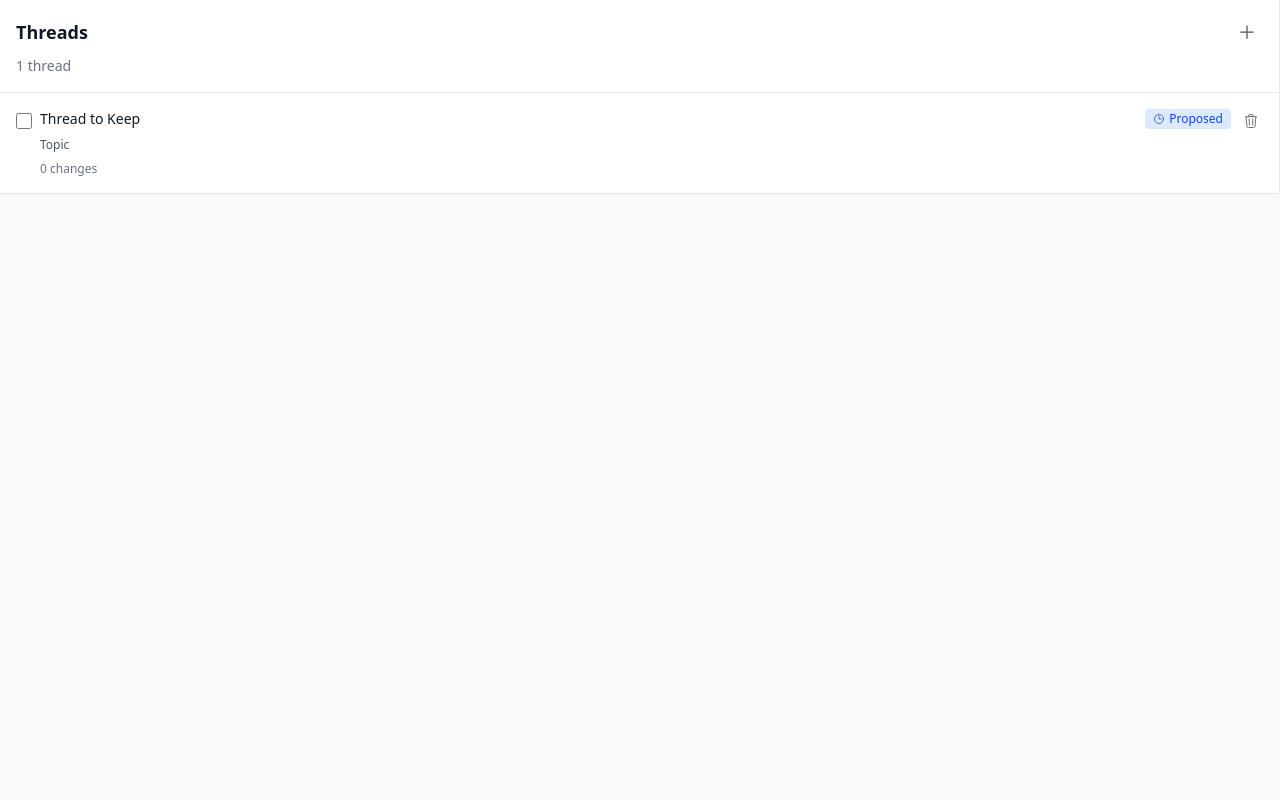
it: ThreadListPanel › closes delete dialog when Cancel is clicked
The image size is (1280, 800).
Click the button titled "Delete thread" at (1251, 121), box 1239,109 -> 1263,133
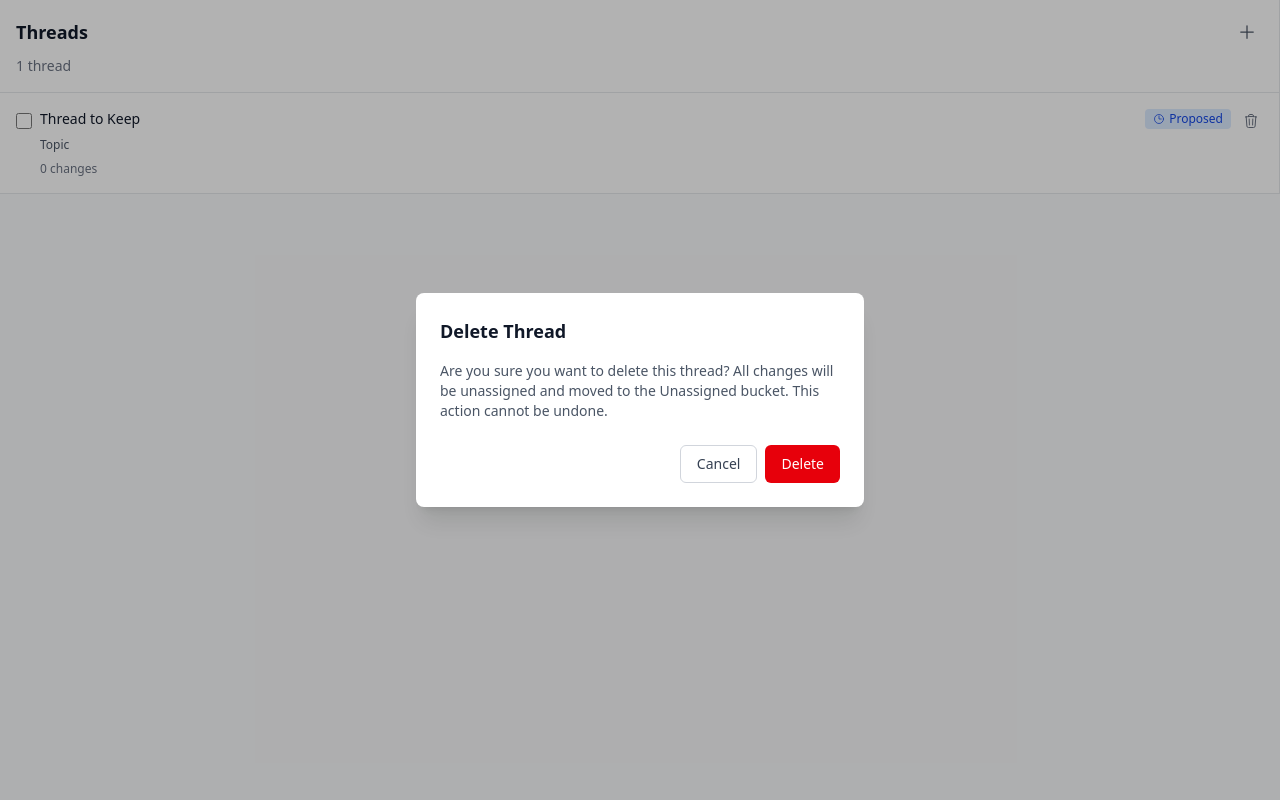
Check: the heading "Delete Thread" is shown, box 440,319 -> 566,343
Click the button "Cancel" at (719, 464), box 680,445 -> 757,483
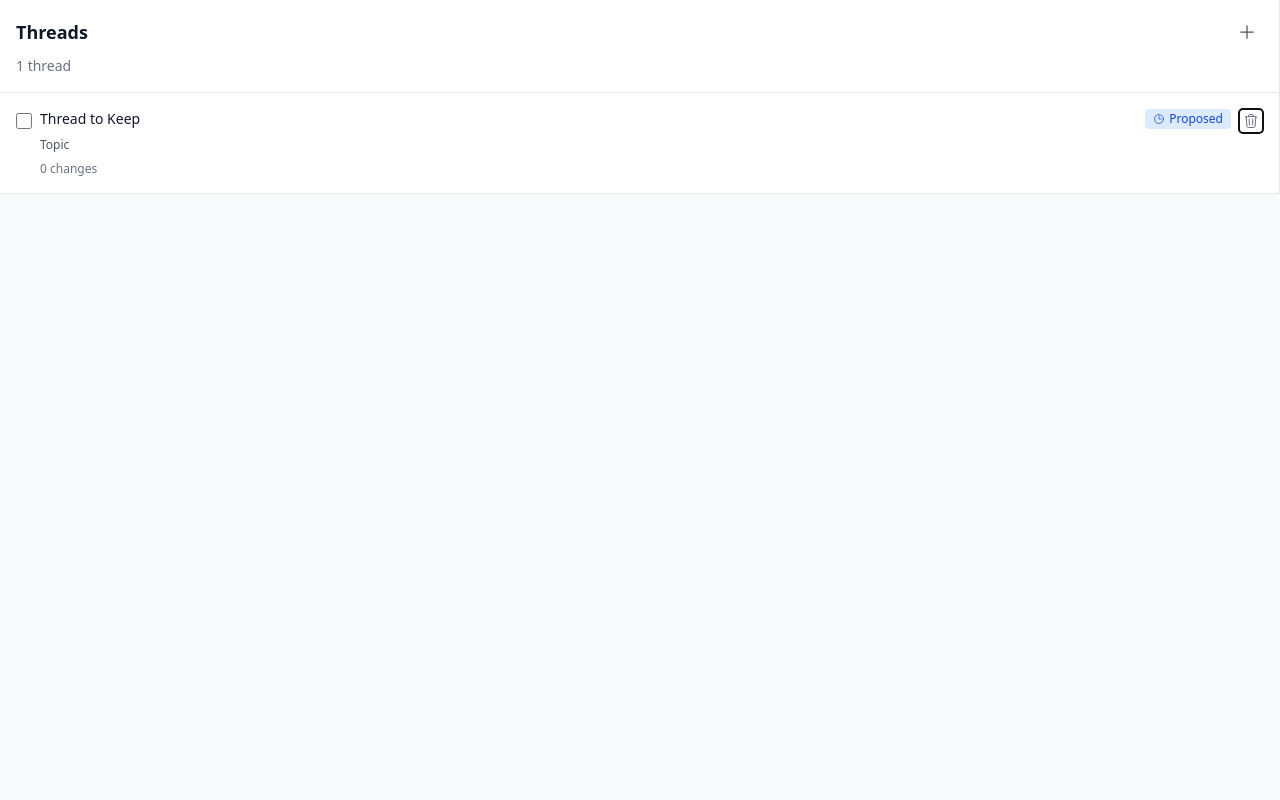
Check: the heading "Thread to Keep" is shown, box 40,109 -> 140,128
Check: the heading "Delete Thread" is gone
